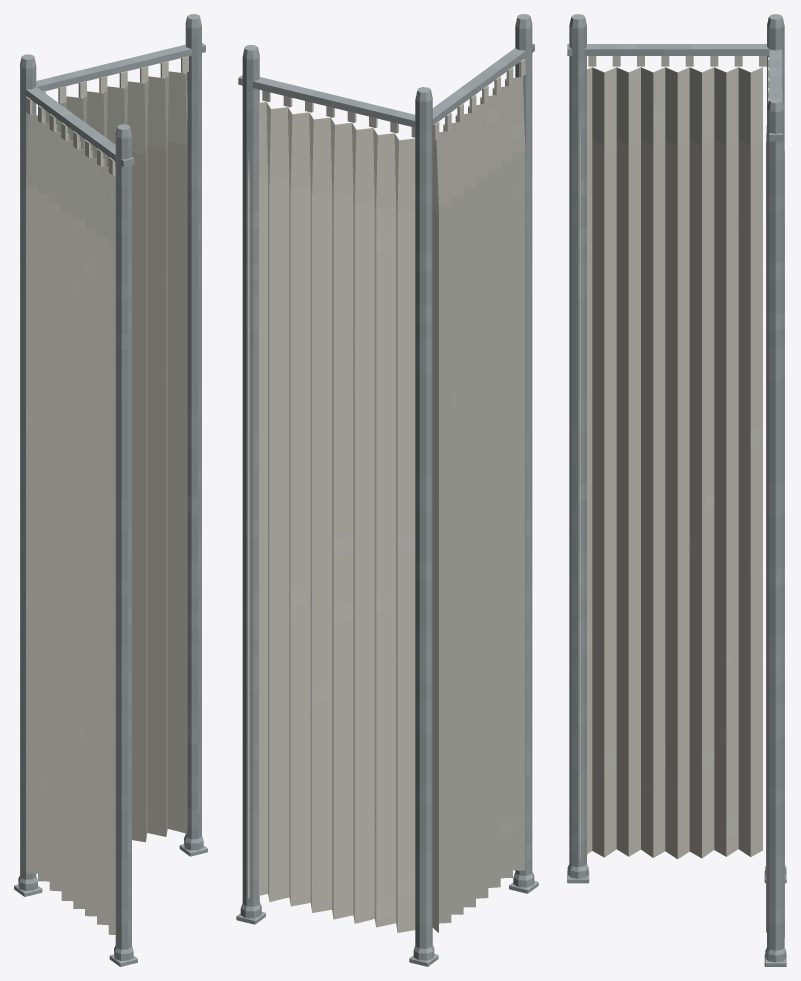
The model's file is pool_curtain_corner.glb.
3 renders of one model, left to right at view 1: azimuth 30°, elevation 25°; view 2: azimuth 150°, elevation 25°; view 3: azimuth 270°, elevation 25°, orthographic. The views are drawn at different scales.
Parts seen in each view (by area): view 1: core_pool_curtain_corner; view 2: core_pool_curtain_corner; view 3: core_pool_curtain_corner.
Part boxes in pixels (left/top/right/bottom): core_pool_curtain_corner: left=14, top=14, right=207, bottom=966; core_pool_curtain_corner: left=236, top=14, right=538, bottom=966; core_pool_curtain_corner: left=567, top=14, right=786, bottom=966.
Size of the model in its own units: 0.6 by 2.6 by 0.6.
2 materials, 2 textured.
